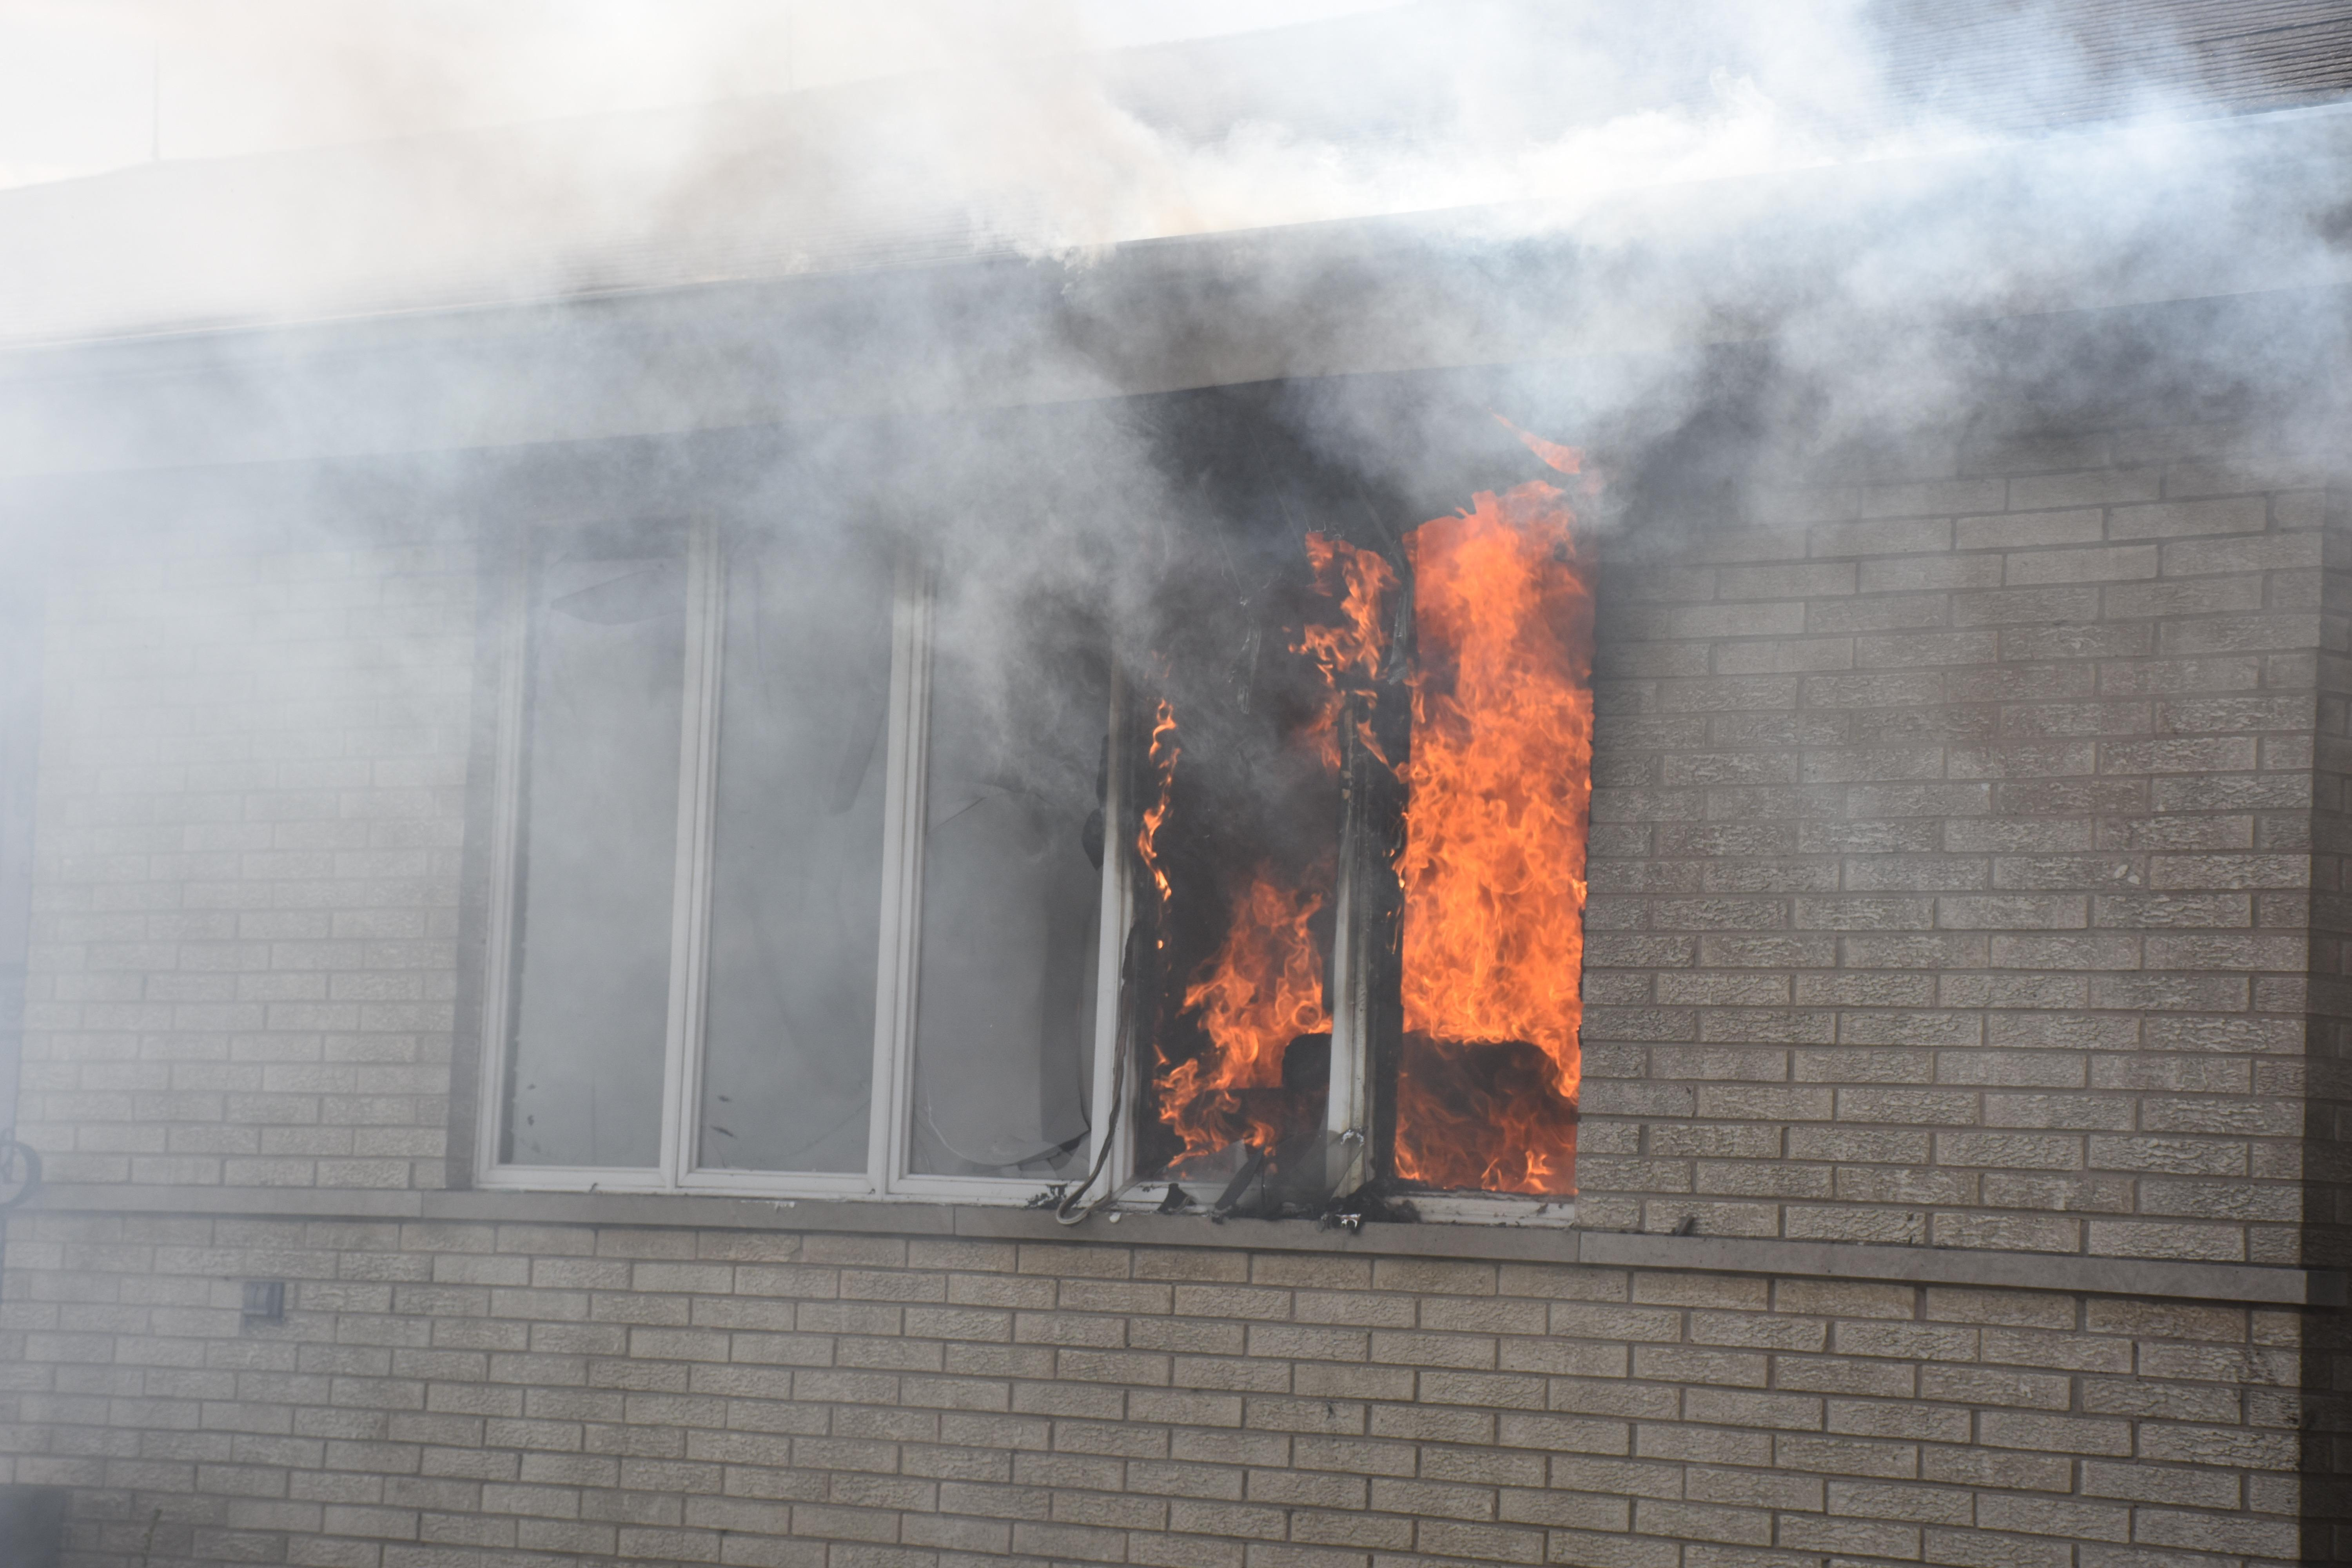fire: (1069, 464, 1692, 1211)
